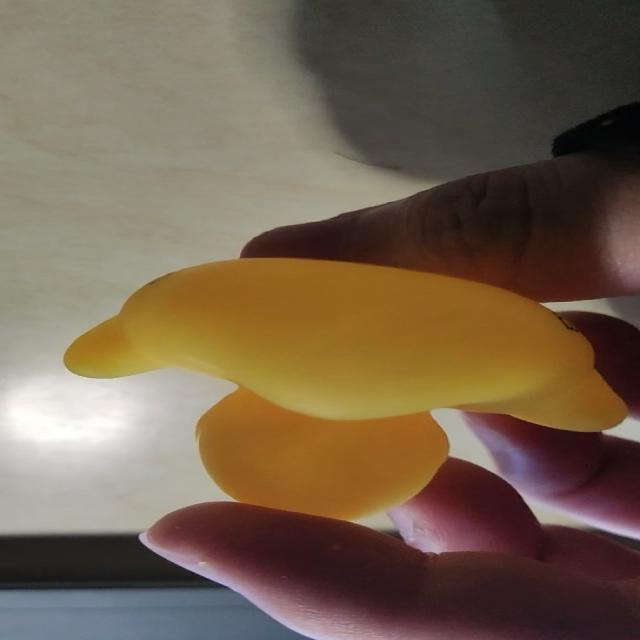rubber-duck: (63, 257, 624, 429)
